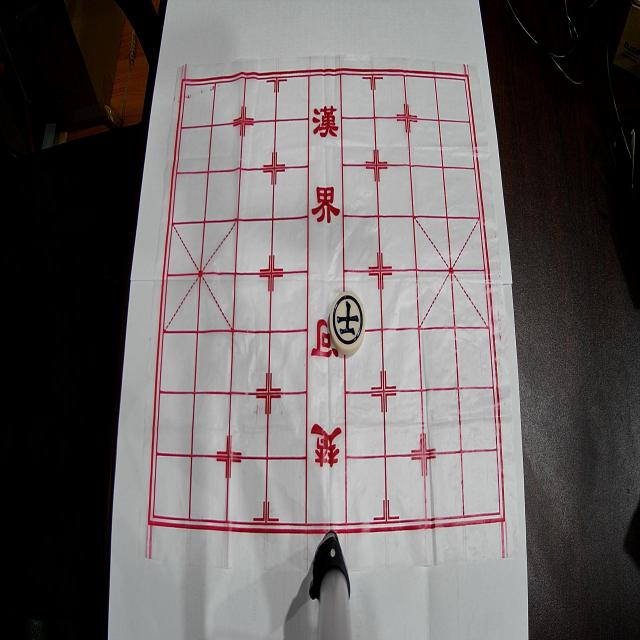black-guard: (330, 291, 366, 355)
